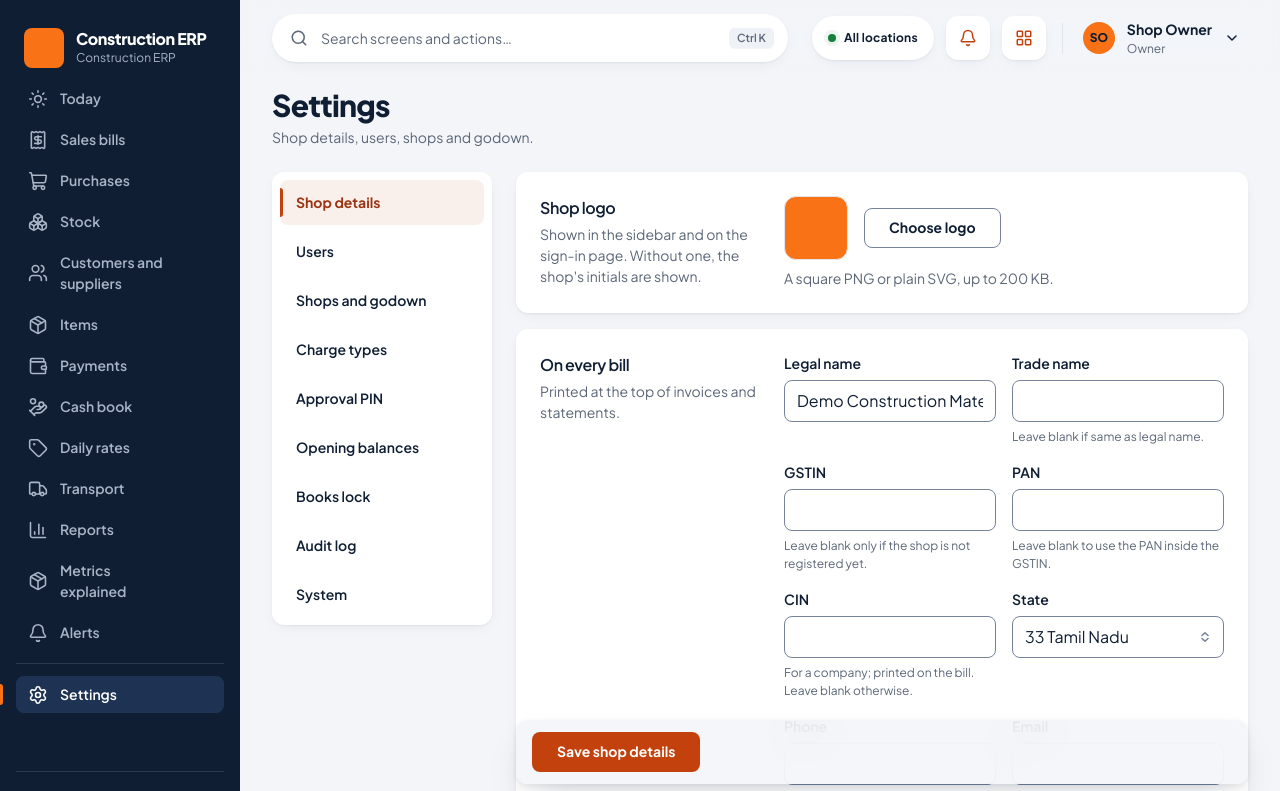
Test case: Shop details › blocks a bad GSTIN, then saves amounts as decimal strings
Type "33ABC" into the field labelled "GSTIN" at (890, 510), box x1=784 y1=488 x2=996 y2=530
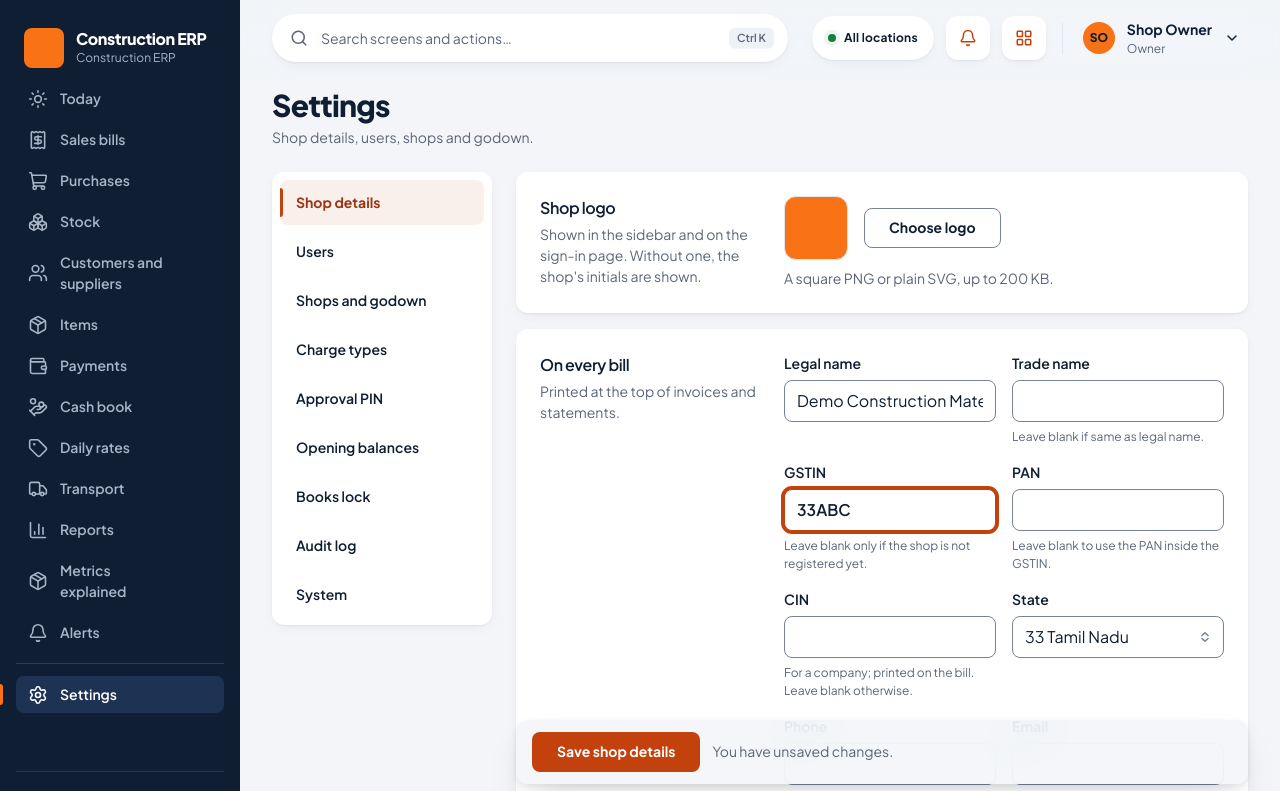
Click the button "Save shop details" at (616, 752), box x1=532 y1=732 x2=700 y2=772
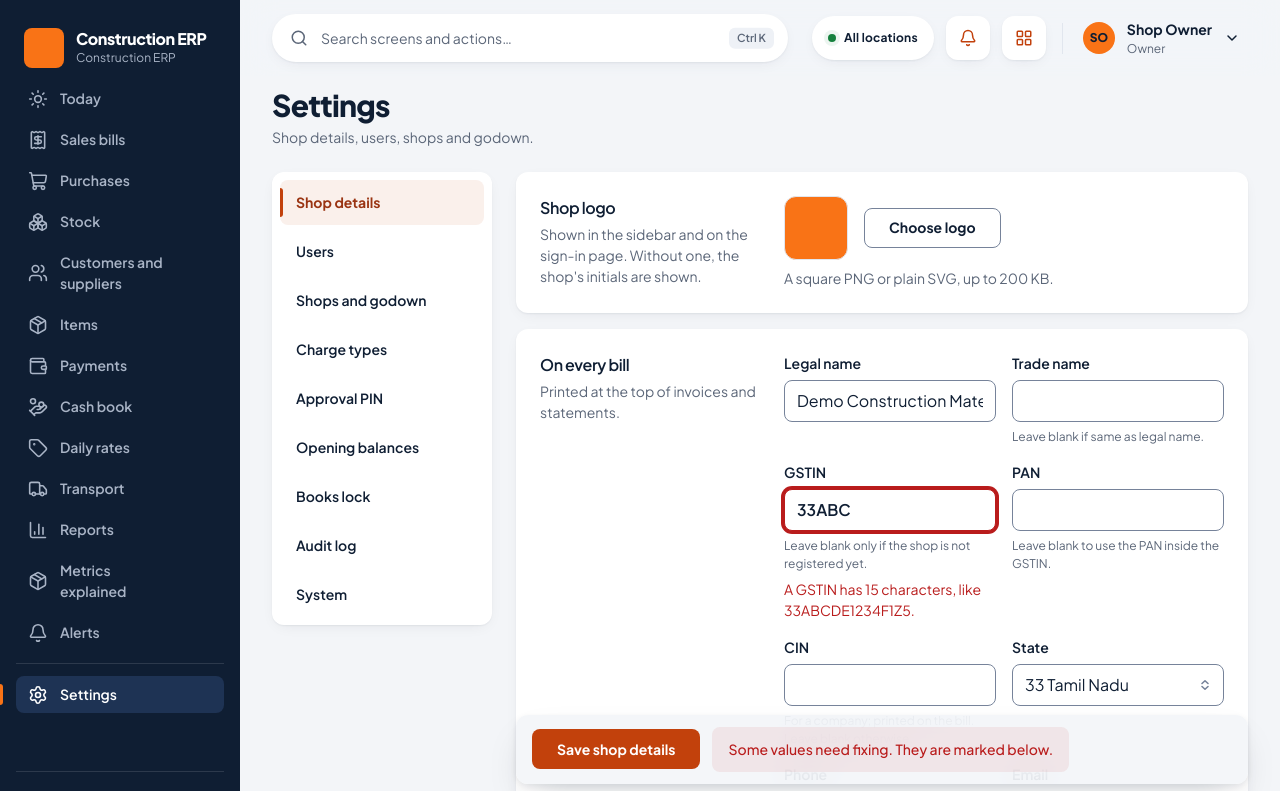
Expected: the text "A GSTIN has 15 characters, like 33ABCDE1234F1Z5." is shown, x1=784 y1=578 x2=996 y2=620
Clear the field labelled "GSTIN" at (890, 510), box x1=784 y1=488 x2=996 y2=530
(page scrolled)
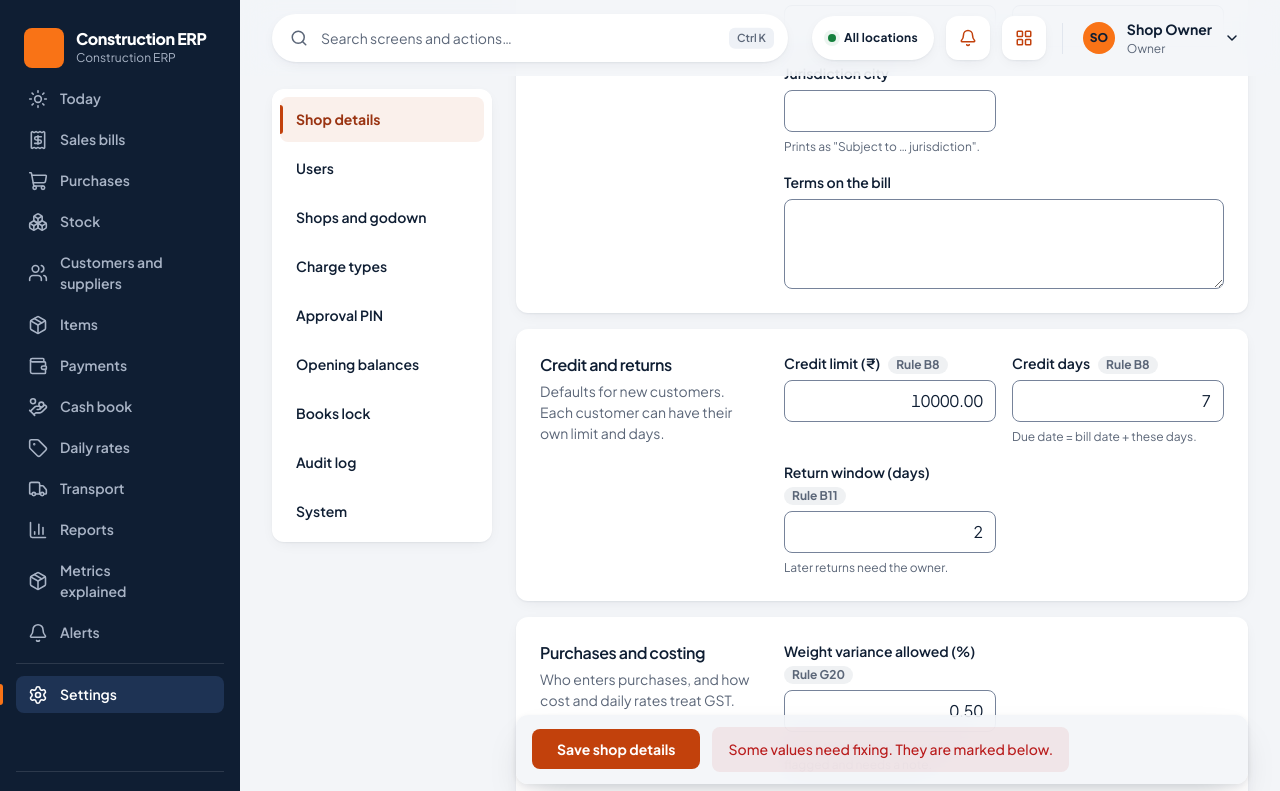
Replace the text in the field labelled "Credit limit (₹) Rule B8" with "15000.50" at (890, 400), box x1=784 y1=380 x2=996 y2=422
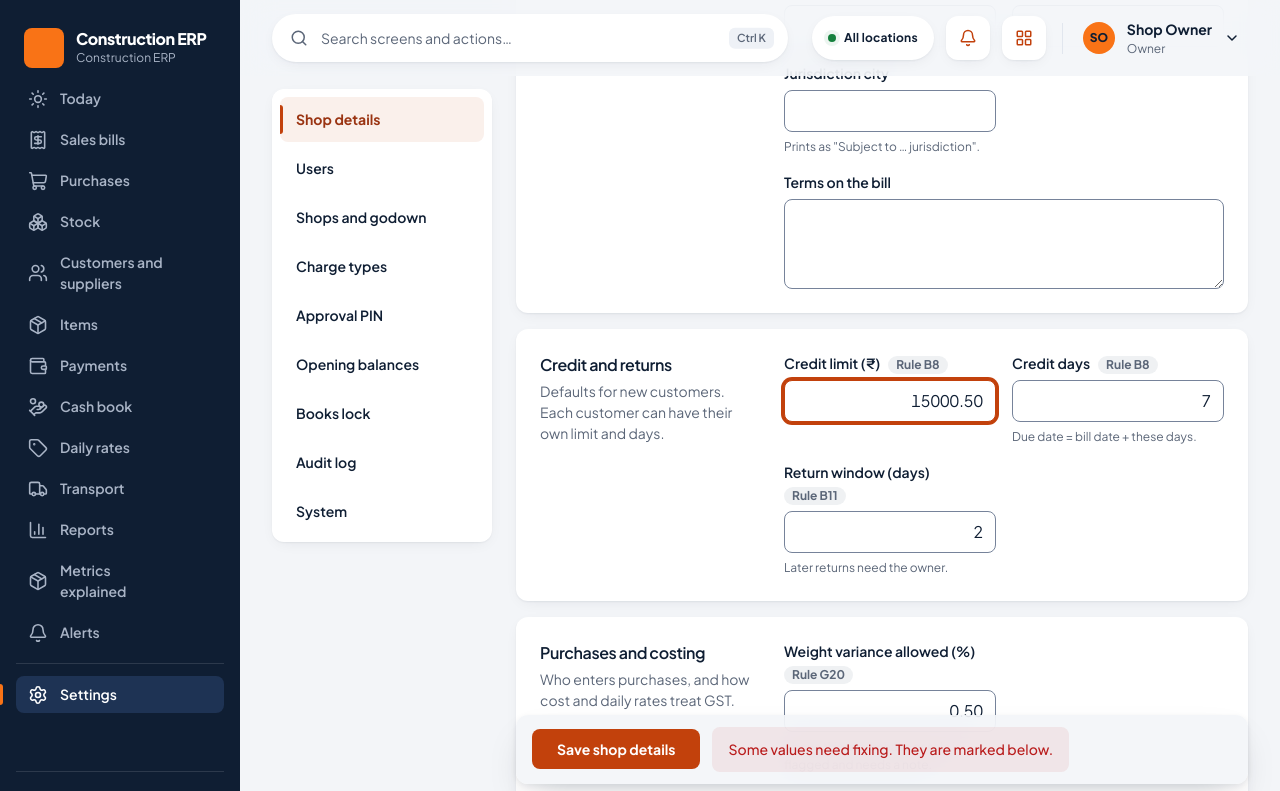
Click the button "Save shop details" at (616, 750), box x1=532 y1=730 x2=700 y2=770
(page scrolled)
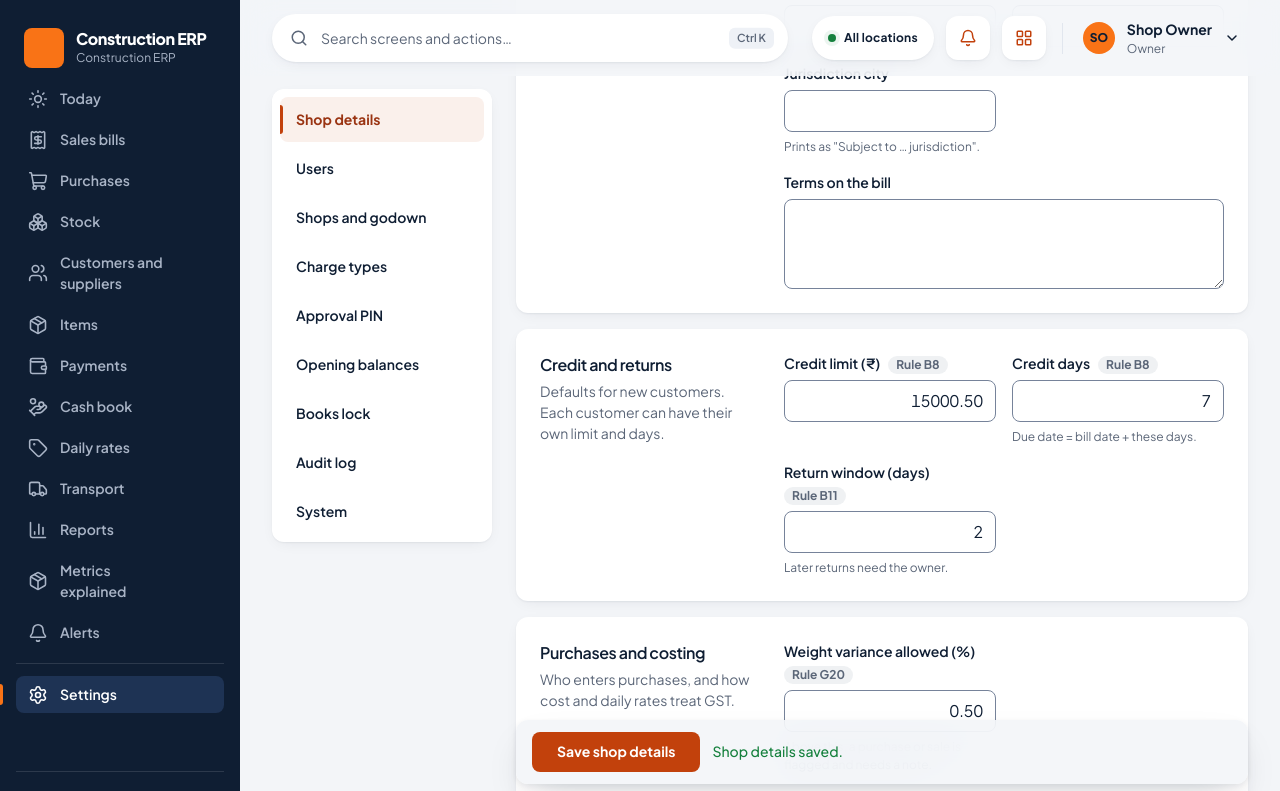
Expected: the text "Shop details saved." is shown, x1=712 y1=742 x2=843 y2=762
